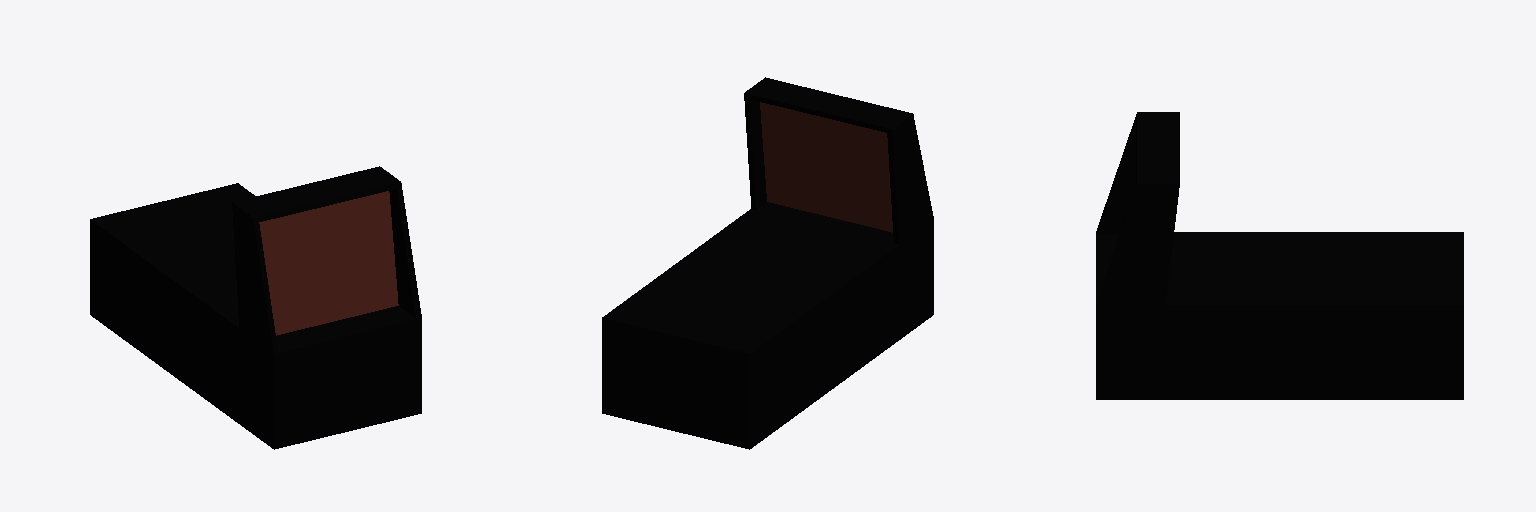
The model's file is Reflex_Sight.obj.
3 renders of one model, left to right at view 1: azimuth 30°, elevation 25°; view 2: azimuth 150°, elevation 25°; view 3: azimuth 270°, elevation 25°, orthographic.
Visible parts, largest first — view 1: Reflex_Sight_Cube.028; view 2: Reflex_Sight_Cube.028; view 3: Reflex_Sight_Cube.028.
Boxes of the visible parts, box(x1,y1,x2,y2) form: Reflex_Sight_Cube.028: box(90, 166, 421, 449); Reflex_Sight_Cube.028: box(602, 77, 933, 449); Reflex_Sight_Cube.028: box(1096, 112, 1463, 399).
Bounding box in the file's own units: 0.0432 × 0.0604 × 0.093.